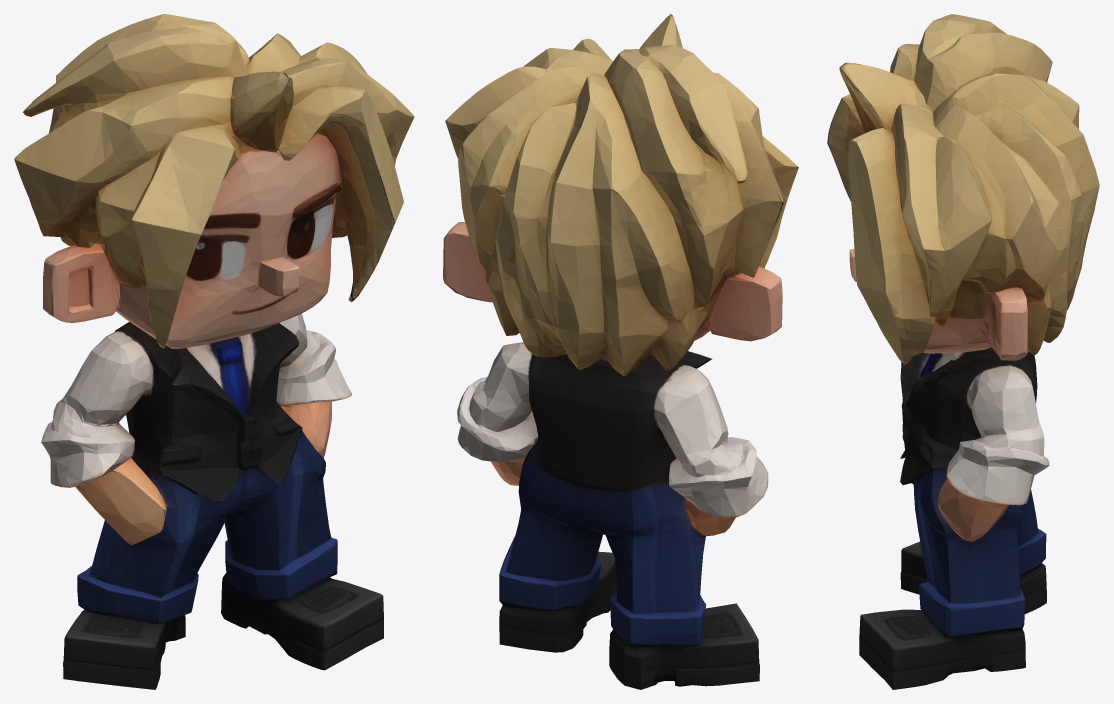
The picture shows the model from 3 angles, left to right: view 1: azimuth 30°, elevation 25°; view 2: azimuth 150°, elevation 25°; view 3: azimuth 270°, elevation 25°; orthographic projection. The views are drawn at different scales.
Visible parts, largest first — view 1: world; view 2: world; view 3: world.
Boxes of the visible parts, bbox=[...] form: world: bbox=[14, 14, 414, 689]; world: bbox=[443, 14, 798, 689]; world: bbox=[827, 14, 1099, 689].
Bounding box in the file's own units: 0.6108 × 0.9993 × 0.424.
1 material, 1 textured.
